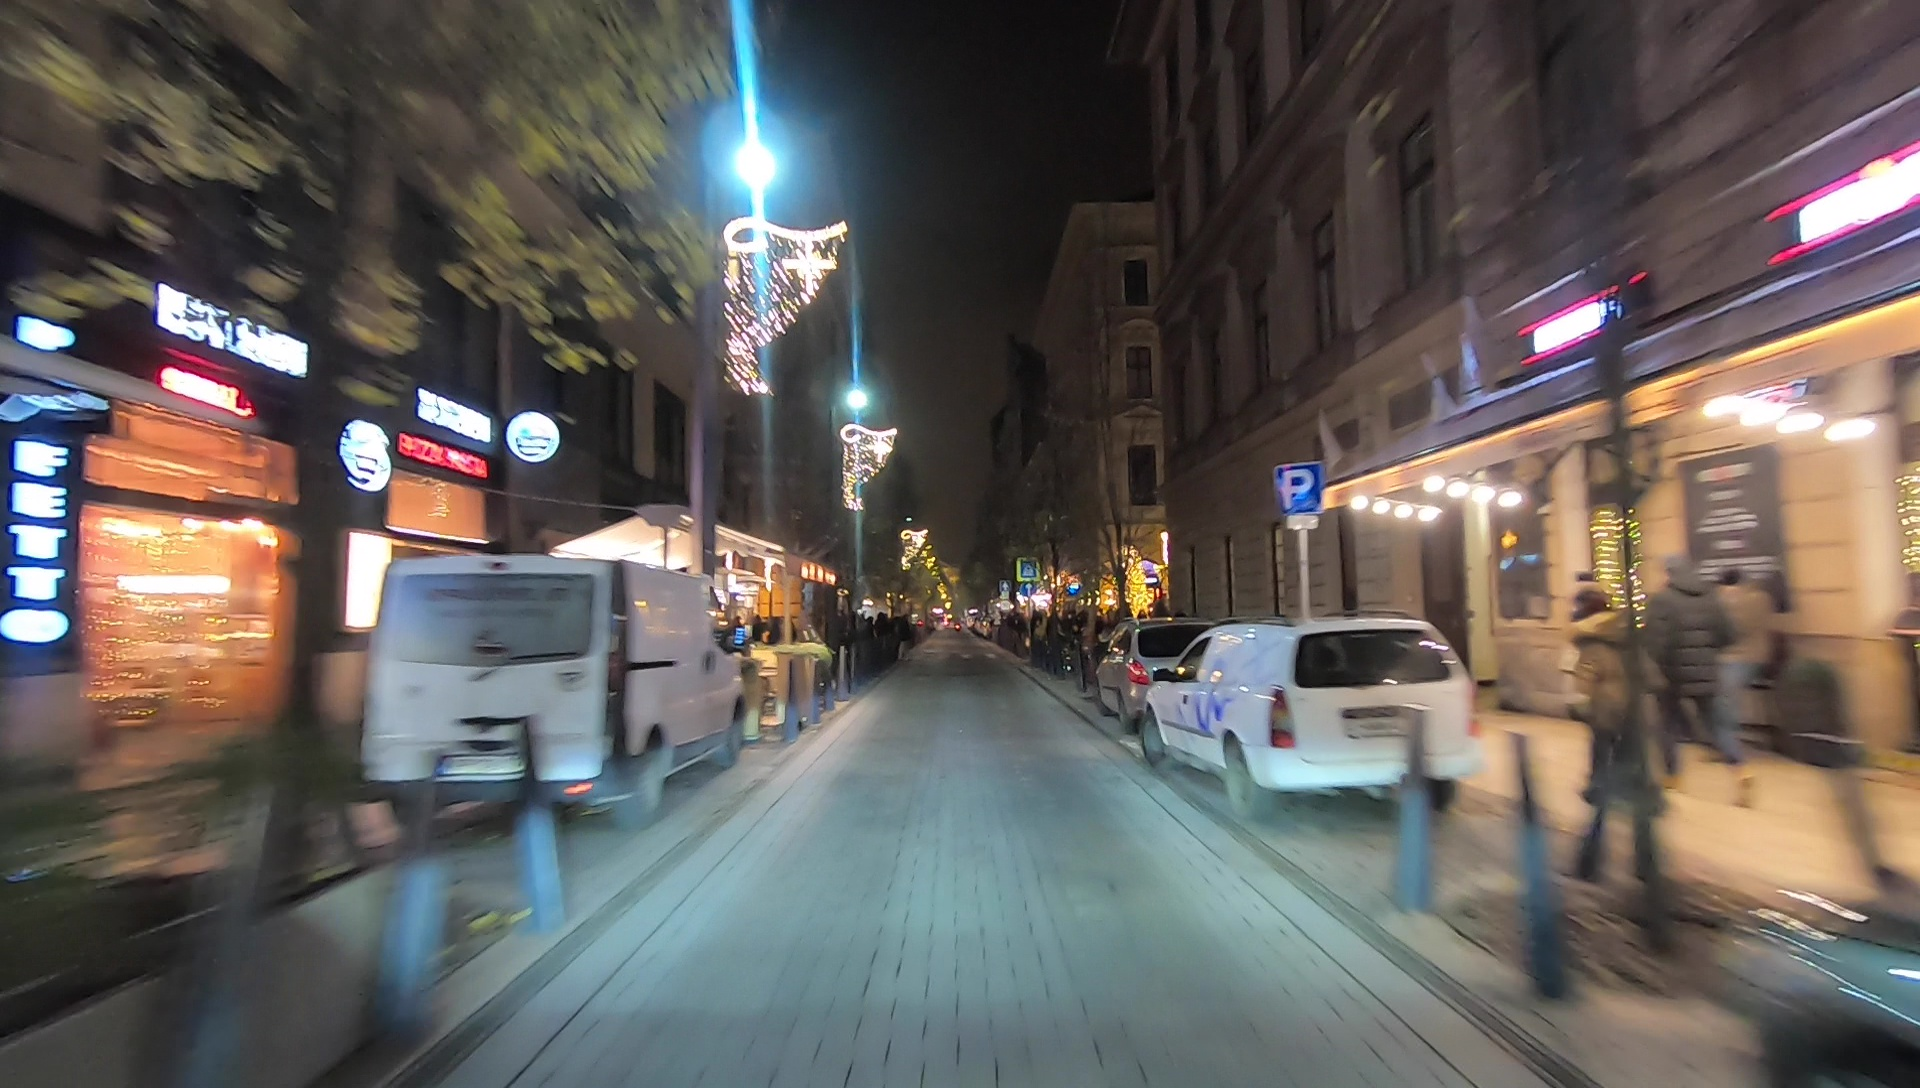person: (1651, 558, 1747, 810), (1565, 576, 1652, 806), (1704, 567, 1767, 773)
